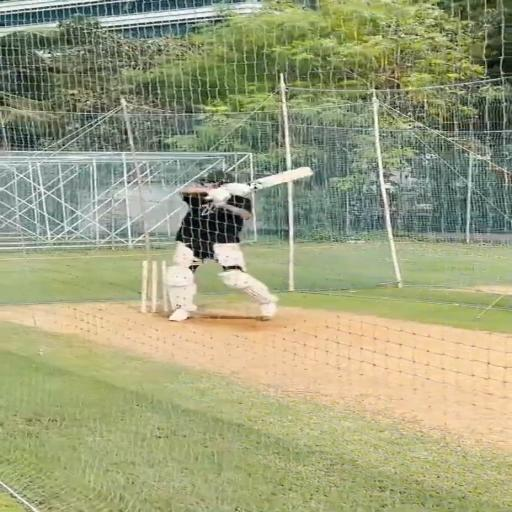Cricket bat: (250, 167, 312, 190)
